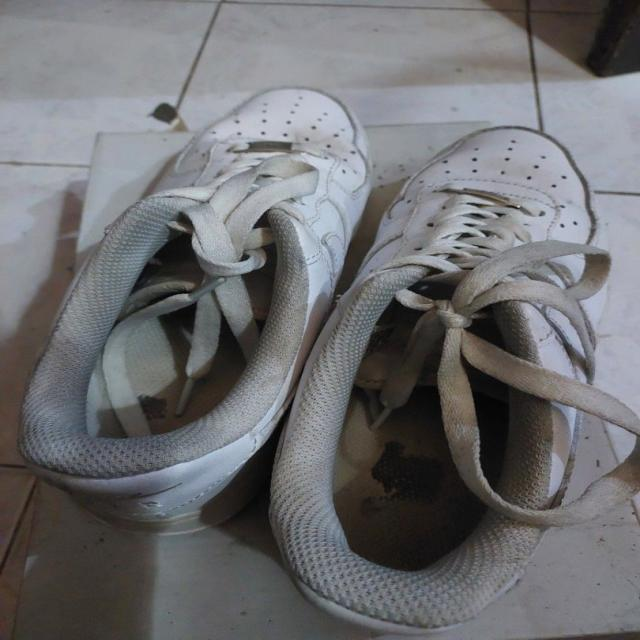nike original air force: (266, 126, 604, 640), (58, 96, 396, 536)
